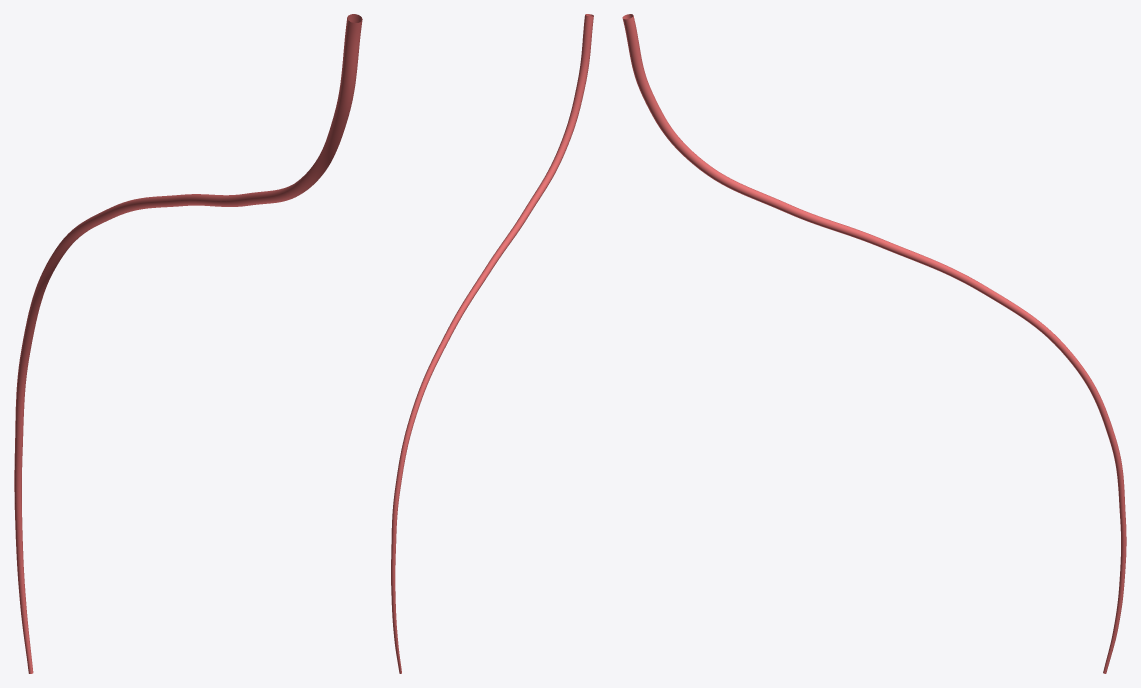
File: Median_sacral_artery.glb
3 views of the same model, side by side, from view 1: azimuth 30°, elevation 25°; view 2: azimuth 150°, elevation 25°; view 3: azimuth 270°, elevation 25° (orthographic). The views are drawn at different scales.
Visible parts, largest first — view 1: Median_sacral_artery_BezierCurve.408; view 2: Median_sacral_artery_BezierCurve.408; view 3: Median_sacral_artery_BezierCurve.408.
Boxes of the visible parts, bbox=[...] form: Median_sacral_artery_BezierCurve.408: bbox=[14, 14, 362, 673]; Median_sacral_artery_BezierCurve.408: bbox=[391, 14, 593, 673]; Median_sacral_artery_BezierCurve.408: bbox=[622, 14, 1126, 673].
Size of the model in its own units: 0.002 by 0.1272 by 0.0883.
